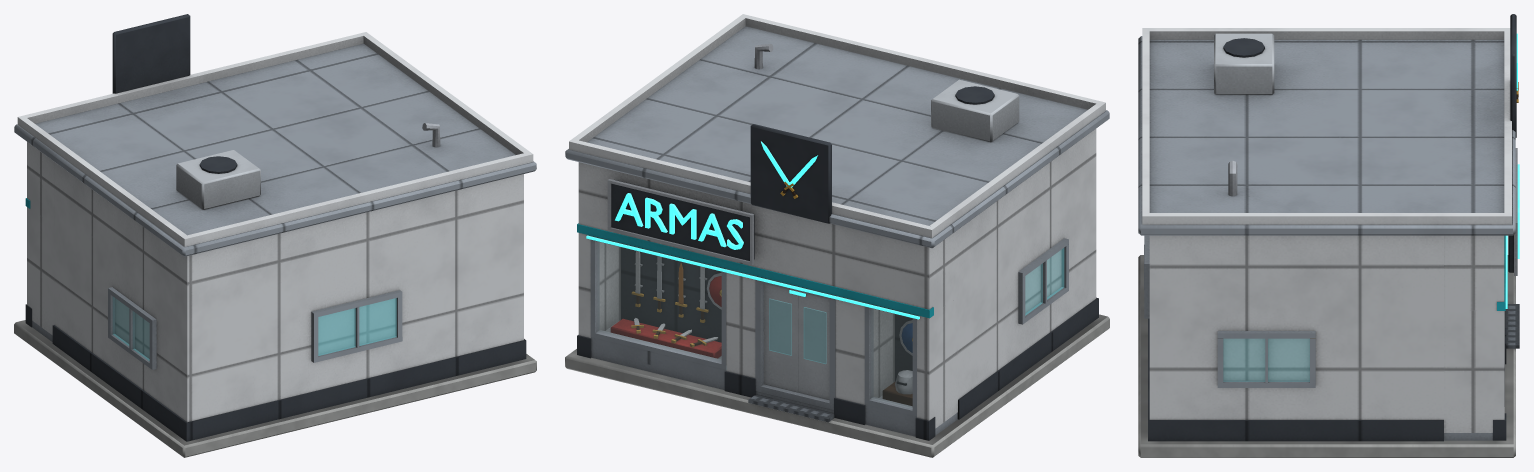
The model's file is tienda_armas.fbx.
3 views of the same model, side by side, from view 1: azimuth 30°, elevation 25°; view 2: azimuth 150°, elevation 25°; view 3: azimuth 270°, elevation 25° (orthographic). The views are drawn at different scales.
Visible parts, largest first — view 1: tienda_armas, tienda_armas_cristal; view 2: tienda_armas, tienda_armas_escaparate_cristal, tienda_armas_neon, tienda_armas_cristal, tienda_armas_puerta_izq, tienda_armas_puerta_der; view 3: tienda_armas, tienda_armas_cristal, tienda_armas_neon.
Part boxes in pixels (<box>): tienda_armas: <box>14,14,536,457</box>; tienda_armas_cristal: <box>113,297,396,360</box>; tienda_armas: <box>565,14,1109,457</box>; tienda_armas_escaparate_cristal: <box>598,242,912,408</box>; tienda_armas_neon: <box>586,141,919,319</box>; tienda_armas_cristal: <box>769,248,1064,363</box>; tienda_armas_puerta_izq: <box>764,283,798,392</box>; tienda_armas_puerta_der: <box>798,294,829,400</box>; tienda_armas: <box>1138,14,1519,457</box>; tienda_armas_cristal: <box>1223,339,1309,381</box>; tienda_armas_neon: <box>1505,33,1519,308</box>.
Size of the model in its own units: 12 by 9 by 10.1.
4 materials, 4 textured.
